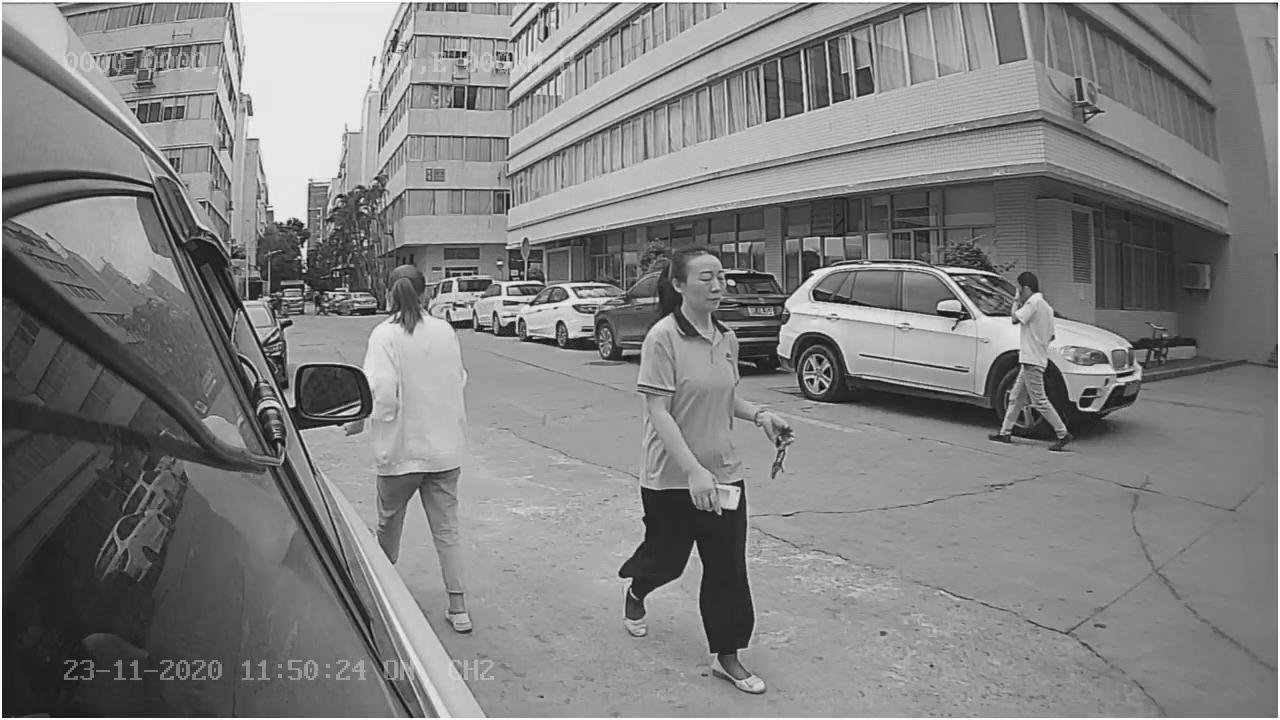person: (618, 237, 804, 689), (986, 265, 1076, 450), (359, 257, 467, 367)
